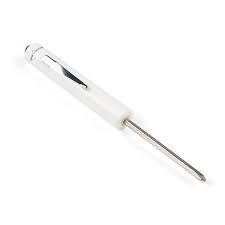screwdriver: (23, 42, 206, 181)
